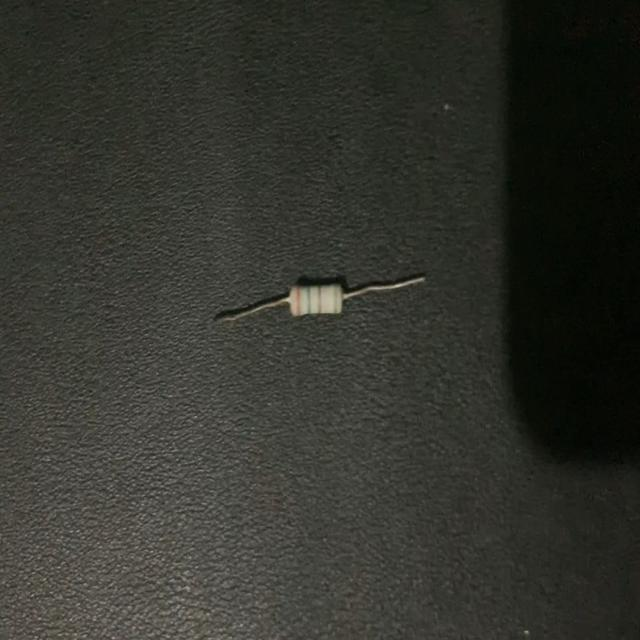resistor: (217, 276, 425, 324)
